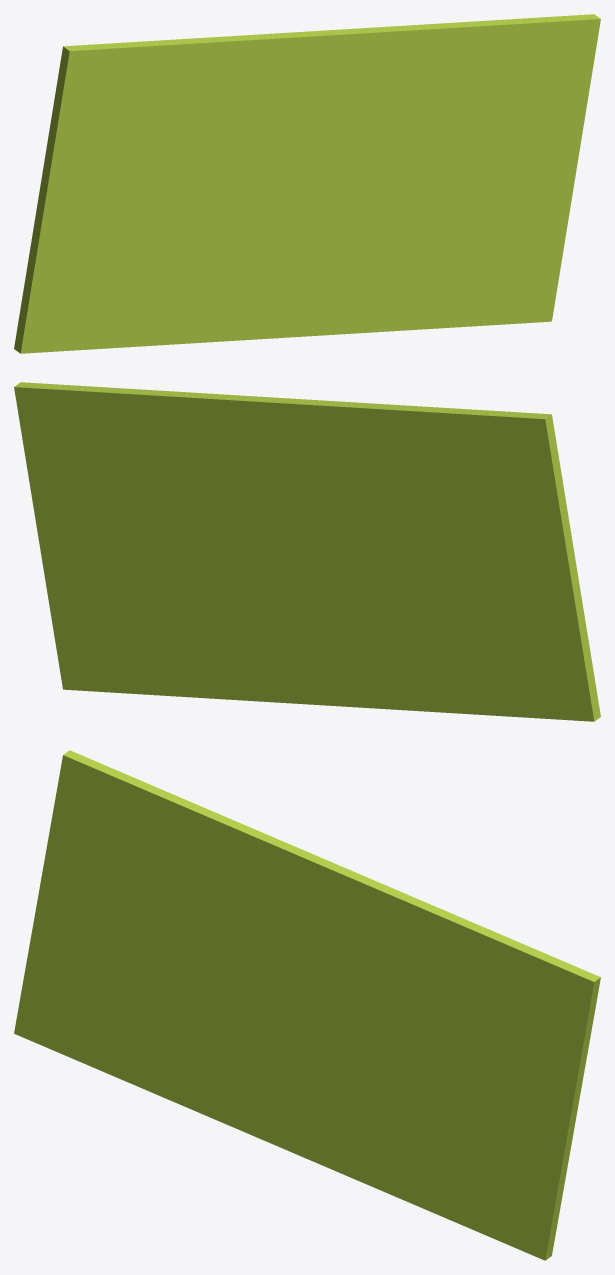
3 renders of one model, top to bottom at view 1: azimuth 30°, elevation 25°; view 2: azimuth 150°, elevation 25°; view 3: azimuth 330°, elevation 25°, orthographic.
Parts seen in each view (by area): view 1: osm-way27917482-F-1; view 2: osm-way27917482-F-1; view 3: osm-way27917482-F-1.
Part boxes in pixels (<box>): osm-way27917482-F-1: <box>14,14,600,353</box>; osm-way27917482-F-1: <box>14,382,600,721</box>; osm-way27917482-F-1: <box>14,750,600,1260</box>.
Size of the model in its own units: 7.55 by 4.83 by 0.15.
